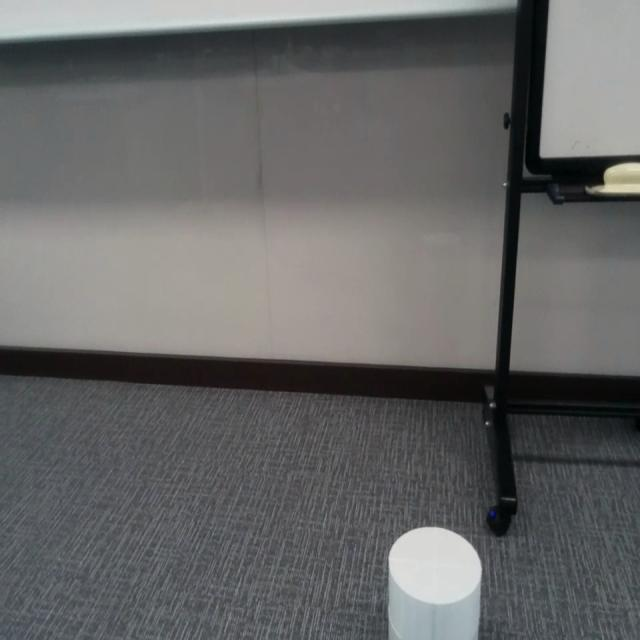cylinder: (388, 525, 483, 640)
